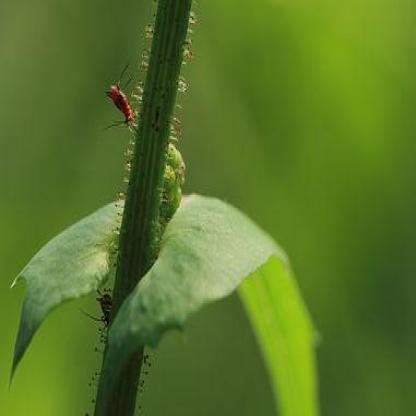aphid: (101, 63, 149, 138), (93, 284, 116, 337)
